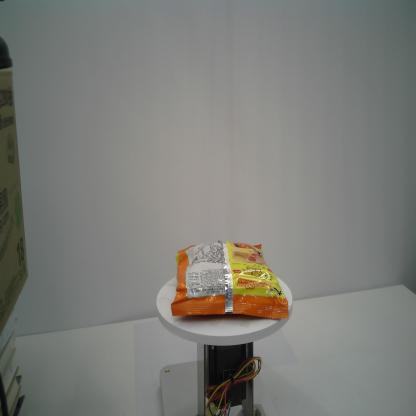Instant Noodles: (171, 239, 289, 320)
